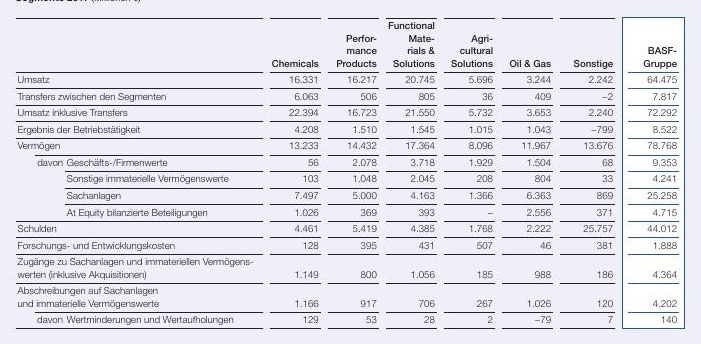table: (0, 0, 701, 344)
